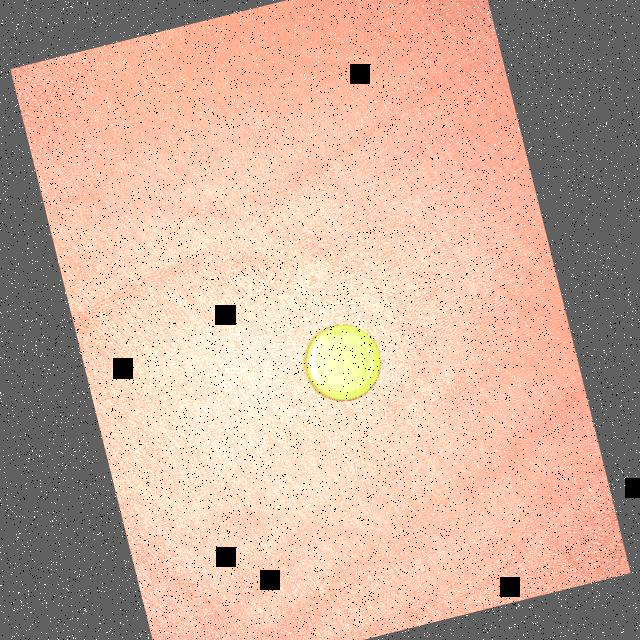plastic_bottle_cap: (294, 314, 389, 408)
